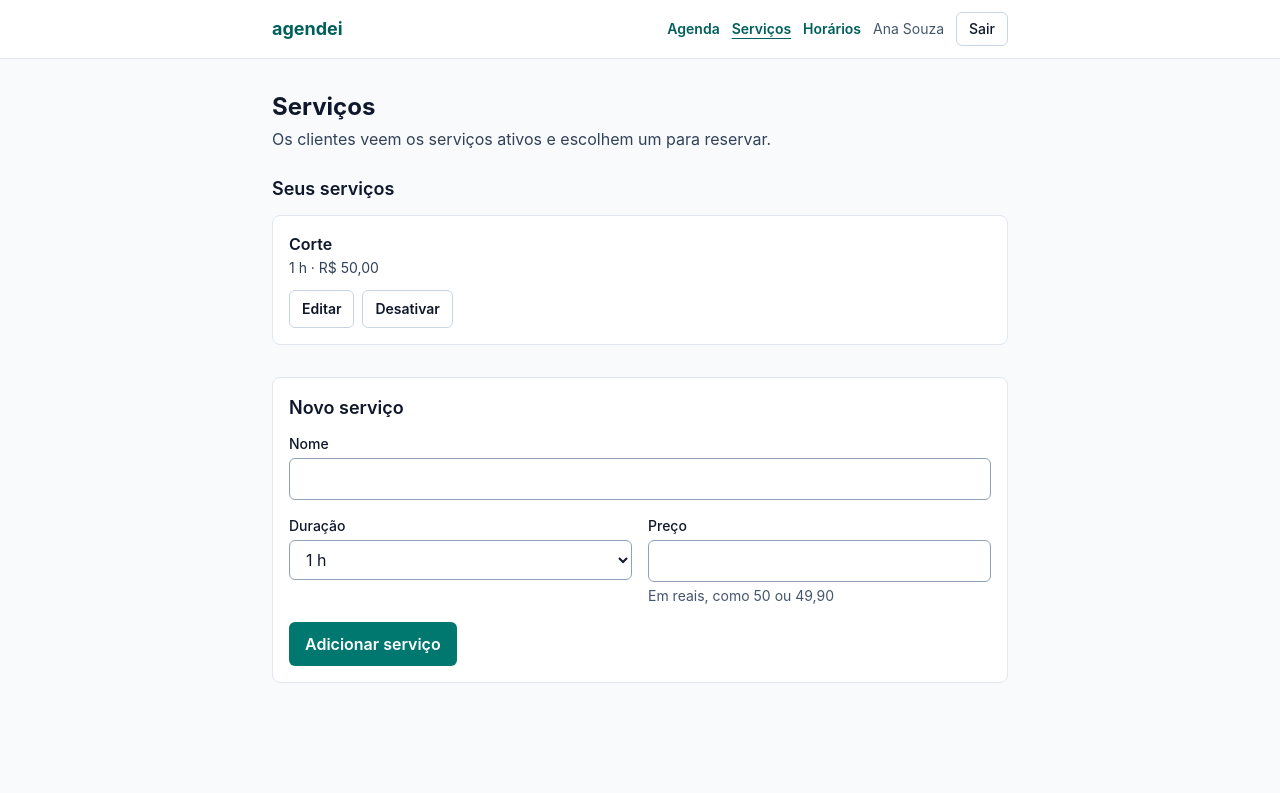
Test: serviços do prestador › cadastra um serviço com a duração da lista e o preço em reais (RF03)
The image size is (1280, 793).
Expected: the heading "Corte" is shown, [289, 234, 332, 254]
Type "Corte e barba" into the field labelled "Nome".
click(640, 479); type("Corte e barba")  # box [289, 458, 991, 500]
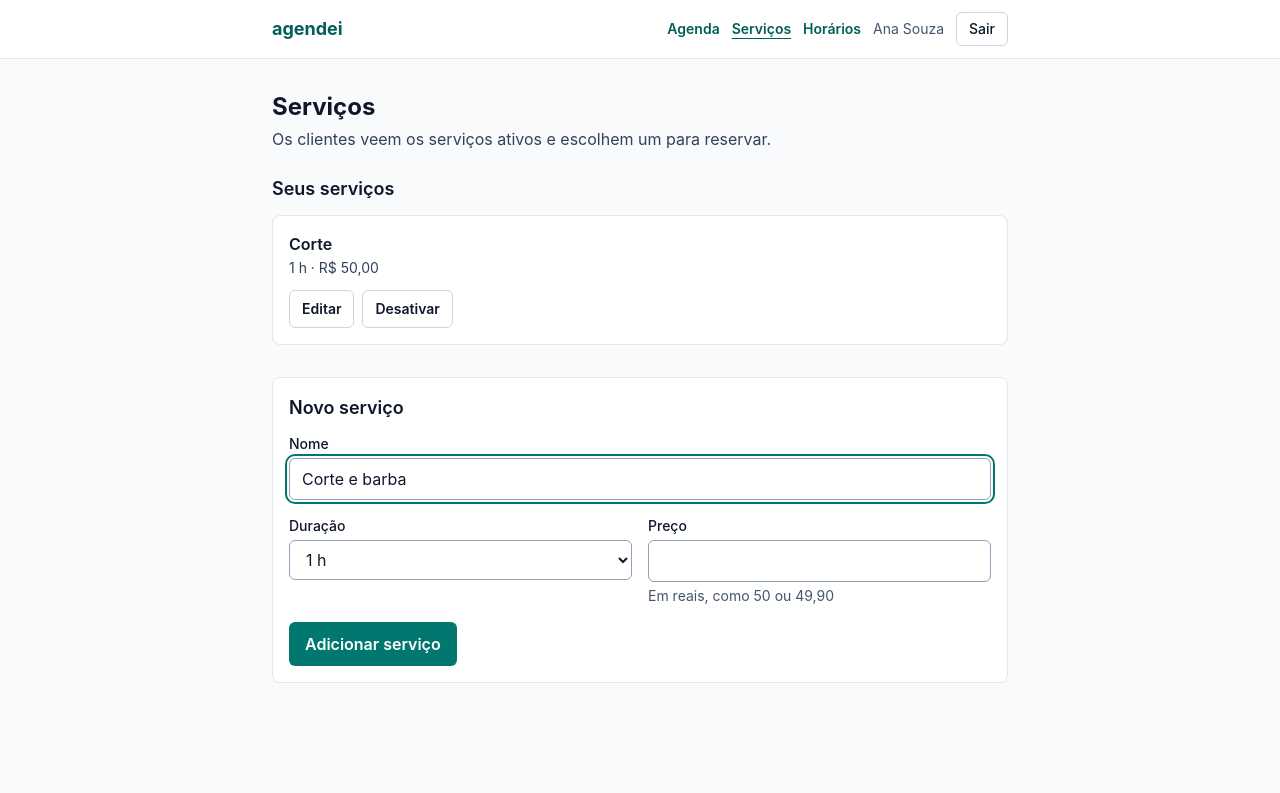
Select "1 h 30 min" in the dropdown labelled "Duração" at (460, 560), box [289, 540, 632, 580]
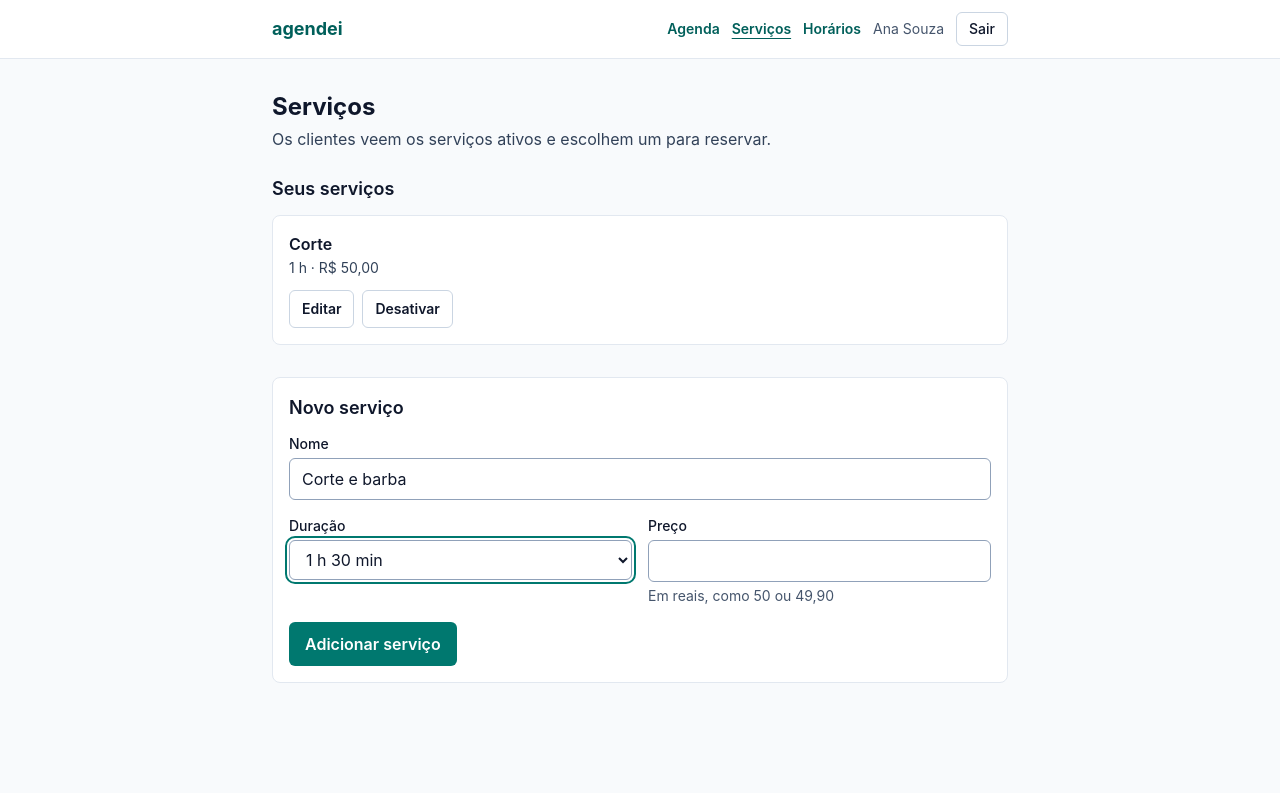
Type "79,90" into the field labelled "Preço".
click(820, 561); type("79,90")  # box [648, 540, 991, 582]
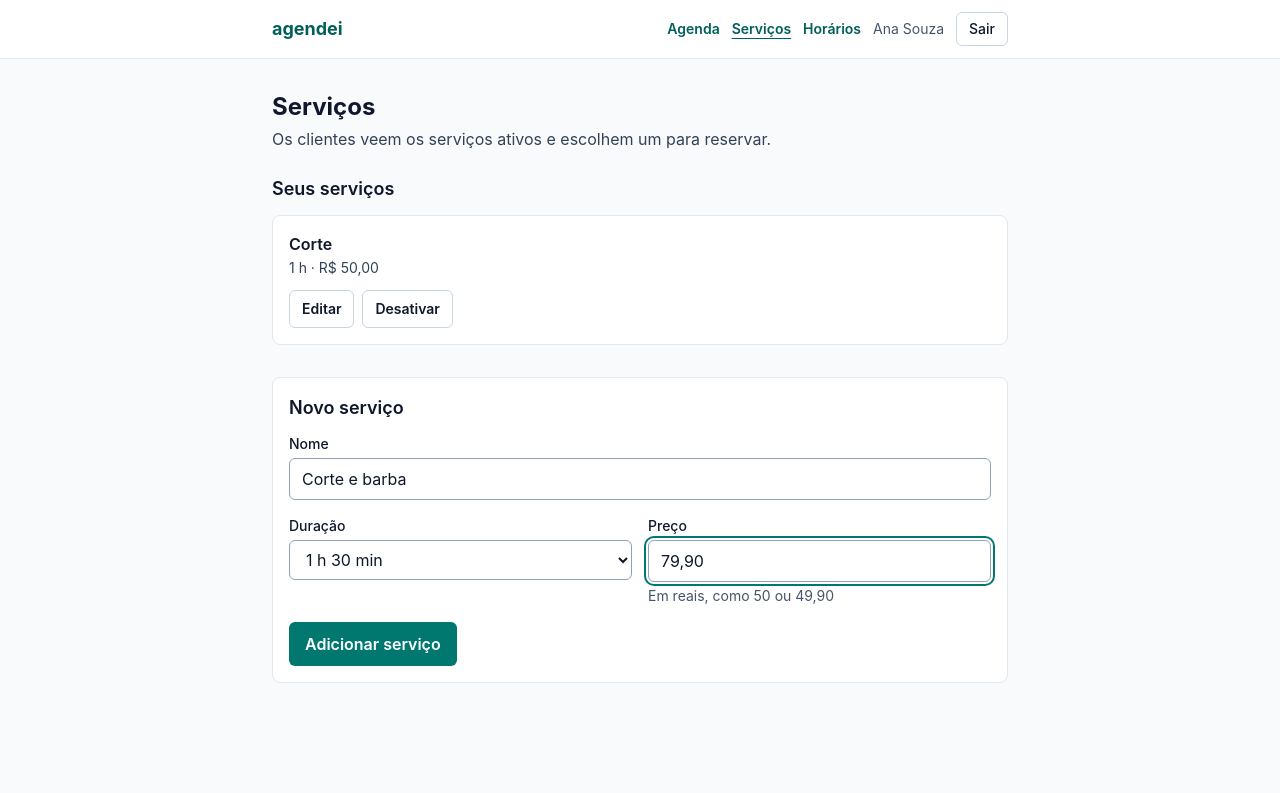
Click the button "Adicionar serviço".
click(373, 644)  # box [289, 622, 457, 666]
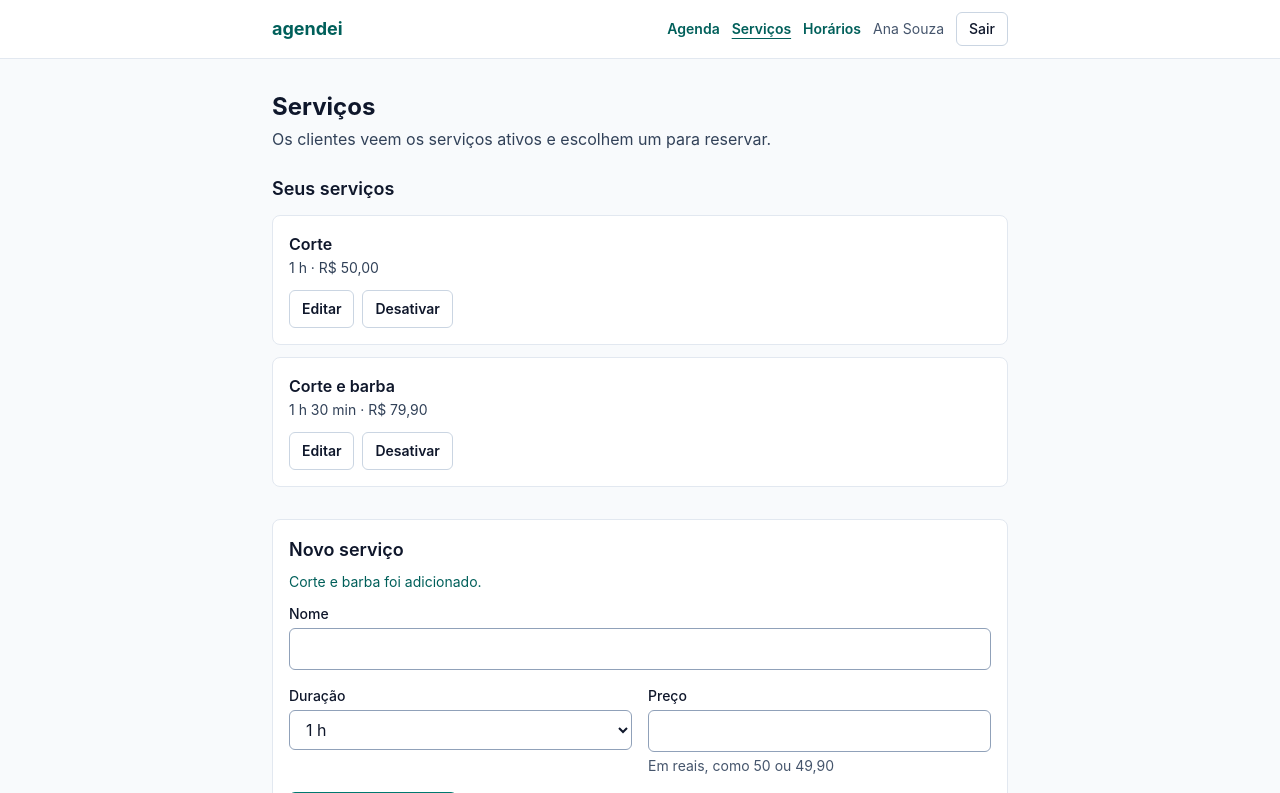
Expected: the text "Corte e barba foi adicionado." is shown, [289, 573, 482, 590]
Expected: the heading "Corte e barba" is shown, [289, 376, 395, 396]
Expected: the field labelled "Nome" is empty, [289, 628, 991, 670]
